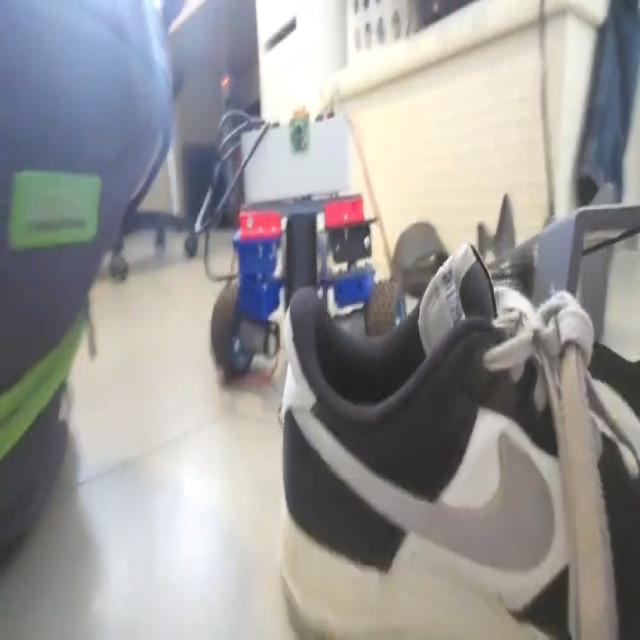Robot: (210, 97, 408, 377)
